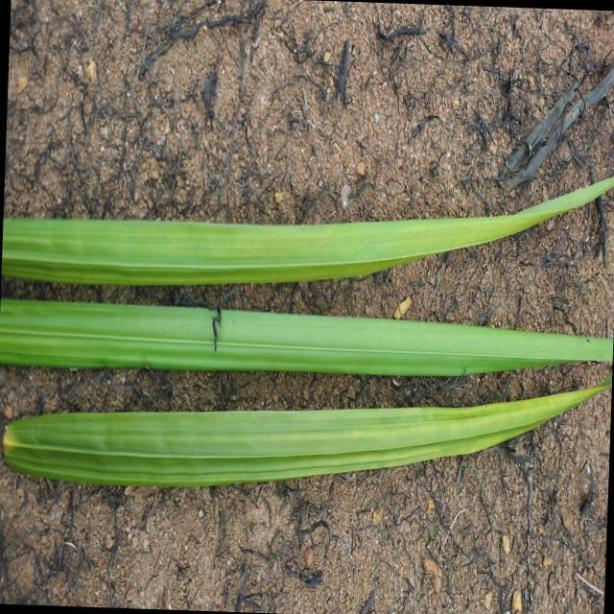nitrogen: (0, 166, 614, 288), (3, 382, 614, 485), (0, 290, 614, 378)
